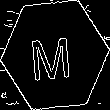M_N: (32, 28, 78, 82)
